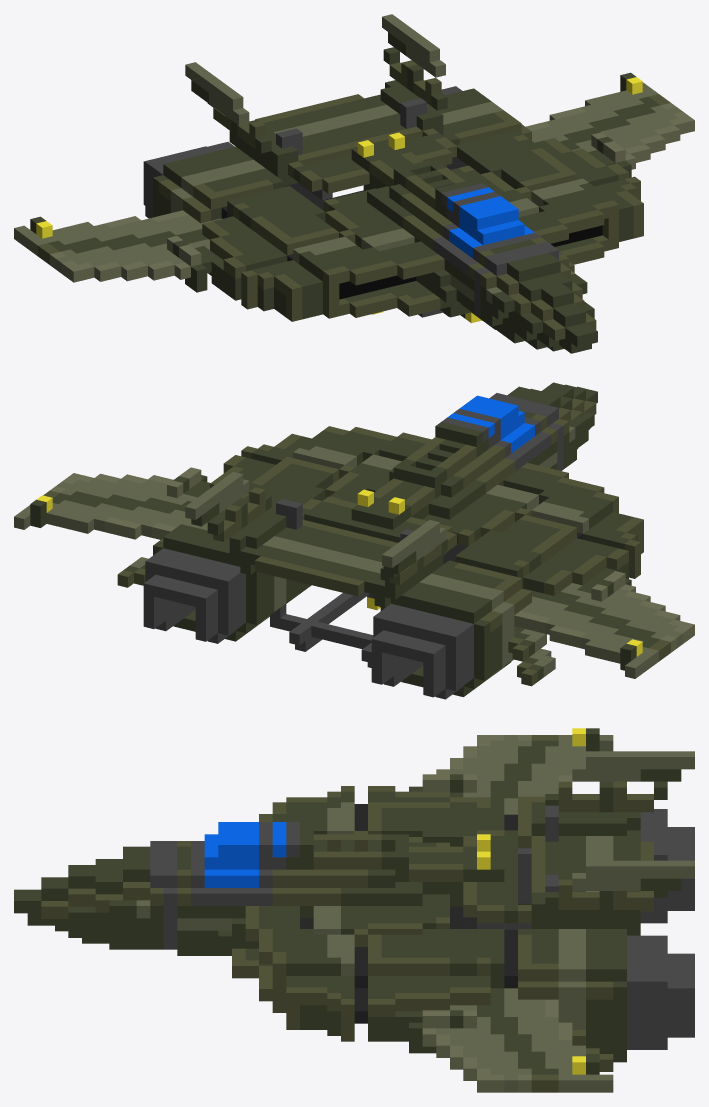
Rendered from CamoStellarJet.obj.
3 views of the same model, one above another, from view 1: azimuth 30°, elevation 25°; view 2: azimuth 150°, elevation 25°; view 3: azimuth 270°, elevation 25° (orthographic). The views are drawn at different scales.
Size of the model in its own units: 6 by 1.6 by 5.
Materials: 1 (1 with a texture image).
